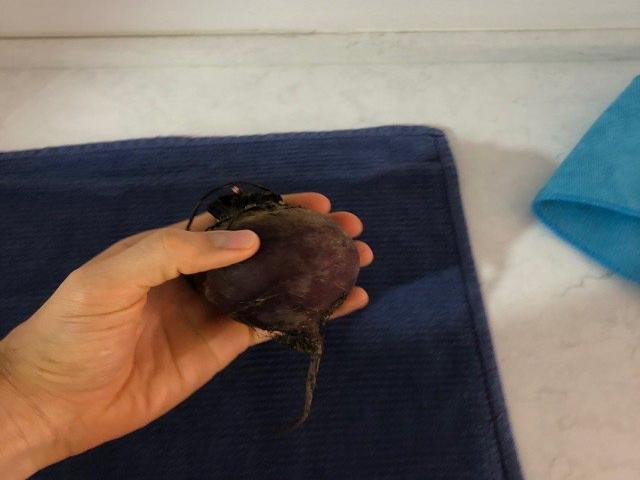beet: (184, 183, 358, 429)
